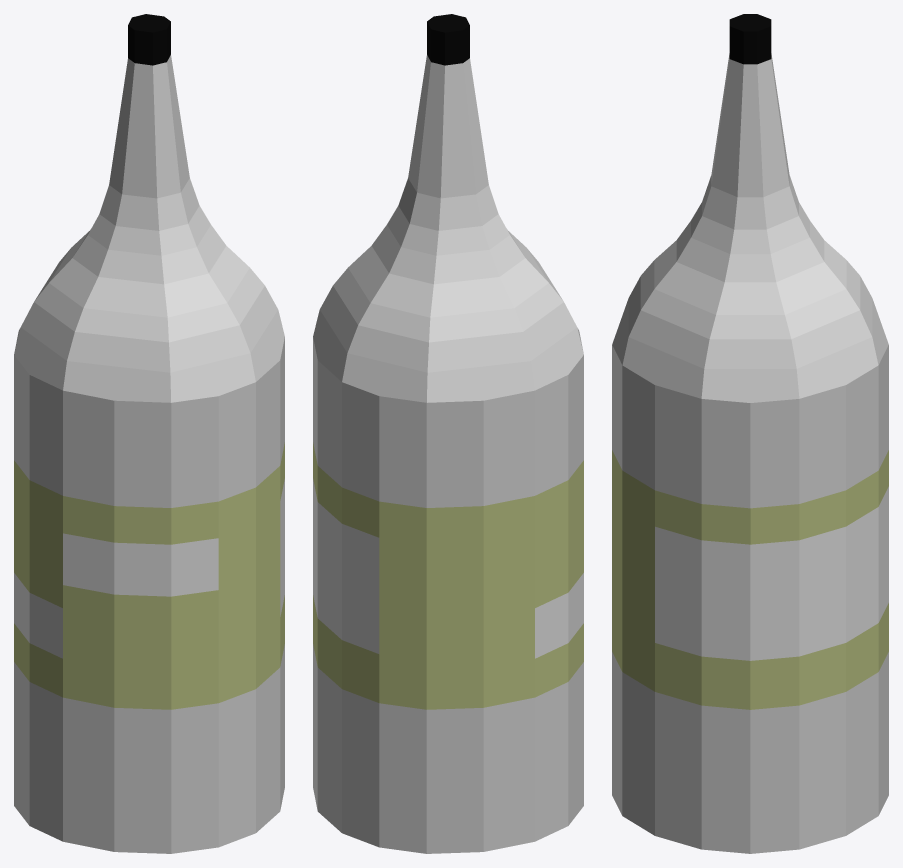
The model's file is bottle.gltf.
3 renders of one model, left to right at view 1: azimuth 30°, elevation 25°; view 2: azimuth 150°, elevation 25°; view 3: azimuth 270°, elevation 25°, orthographic.
Parts seen in each view (by area): view 1: Cube; view 2: Cube; view 3: Cube.
Part boxes in pixels (x1,y1,x2,y2): Cube: (14, 14, 284, 853); Cube: (313, 14, 583, 853); Cube: (612, 14, 888, 853).
Bounding box in the file's own units: 0.2613 × 0.8049 × 0.2613.
